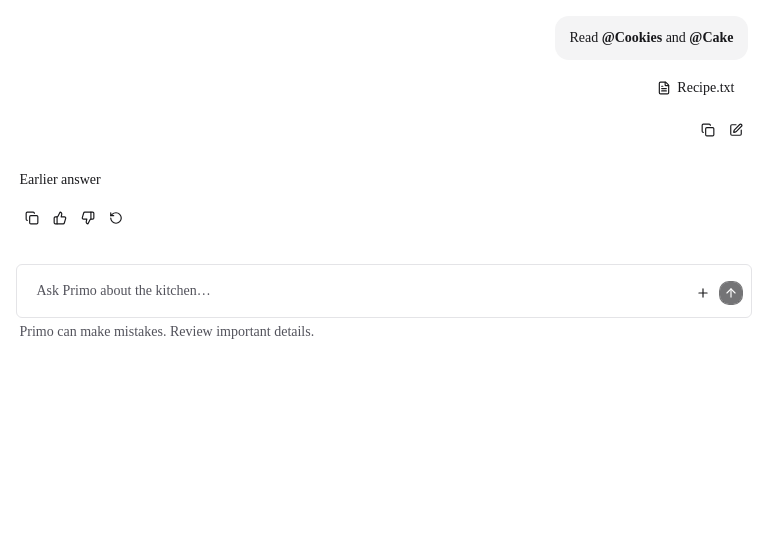
Test: edits a question with its original files and only still-present mentions, leaving the composer draft separate
Type "Unsent next question" into the text box named "Message Primo".
click(360, 291); type("Unsent next question")  # box x1=32 y1=273 x2=686 y2=309
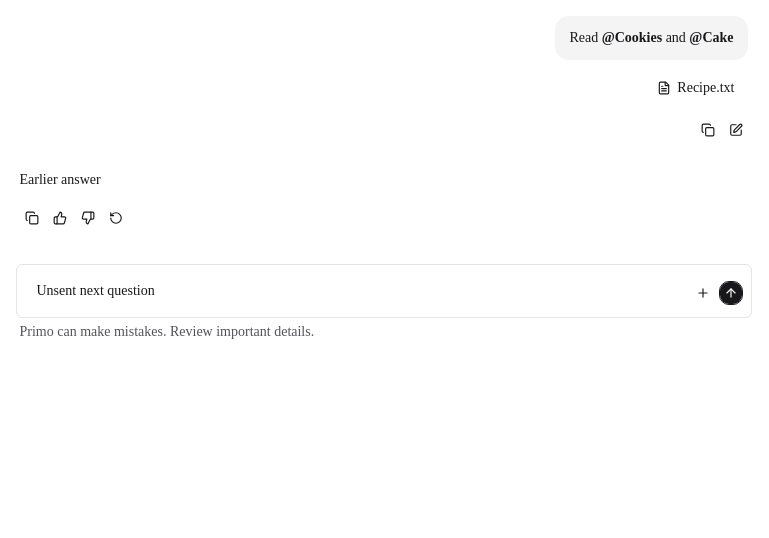
Click the button named "Edit question".
click(736, 130)  # box x1=724 y1=118 x2=748 y2=142
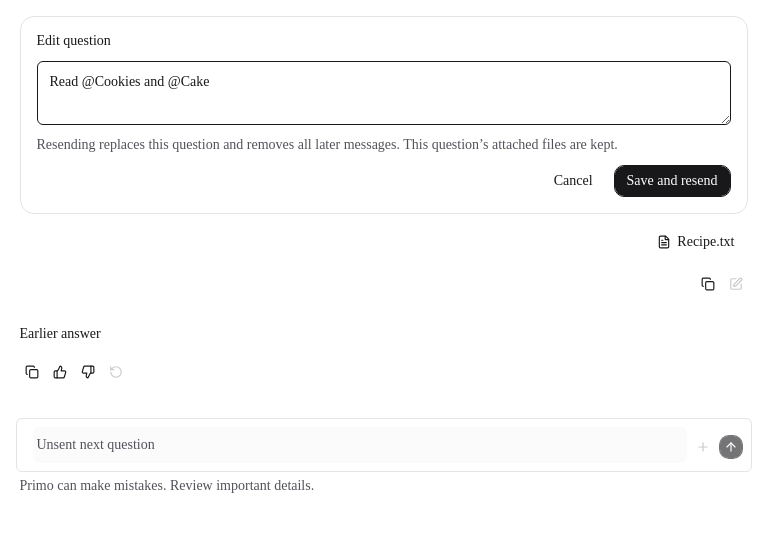
Now the text "removes all later messages" is shown, box x1=36 y1=137 x2=618 y2=152
Replace the text in the text box labelled "Edit question" with "Compare @Cookies" at (384, 93), box x1=36 y1=61 x2=730 y2=125
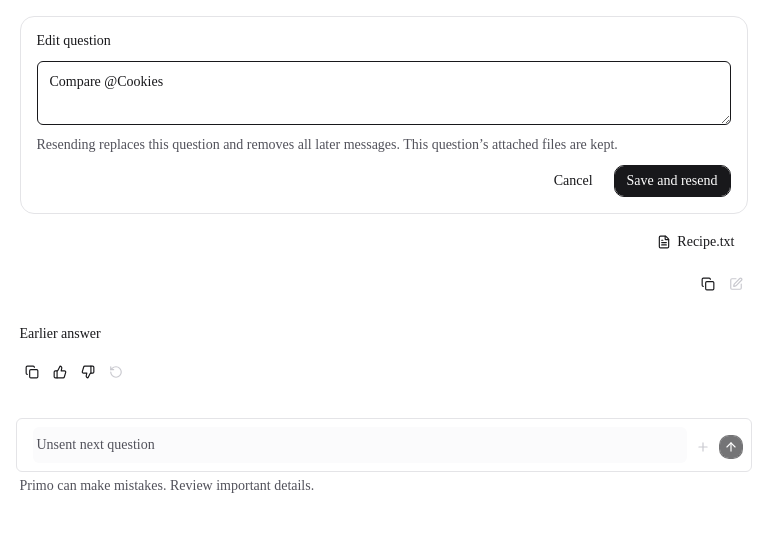
Click the button "Save and resend".
click(672, 181)  # box x1=614 y1=165 x2=730 y2=197
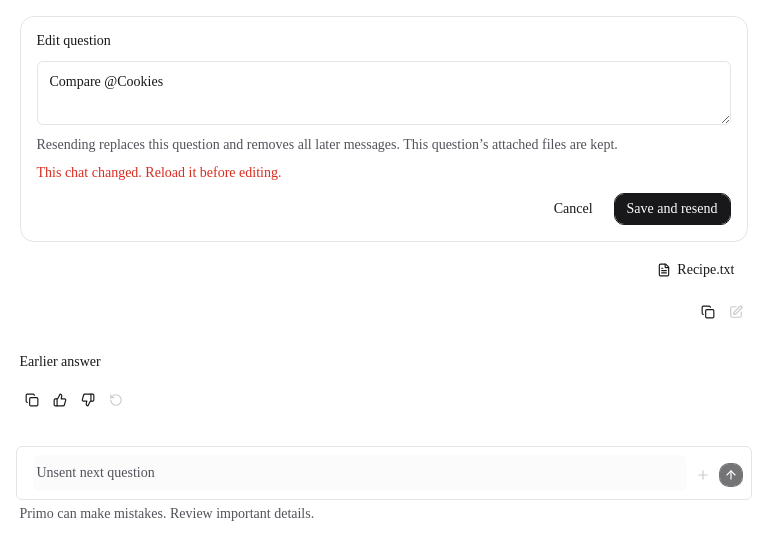
Now the message shows "This chat changed", box x1=36 y1=165 x2=281 y2=180
Click the button "Save and resend".
click(672, 209)  # box x1=614 y1=193 x2=730 y2=225
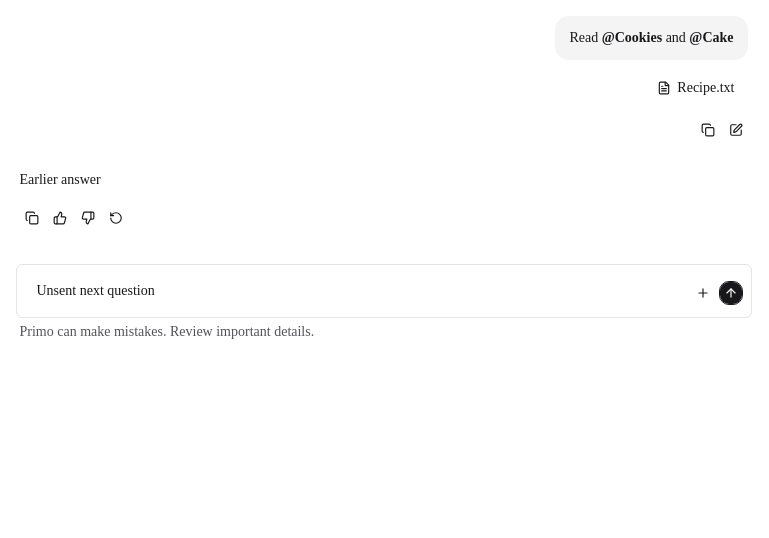
Now the label "Edit question" is gone
